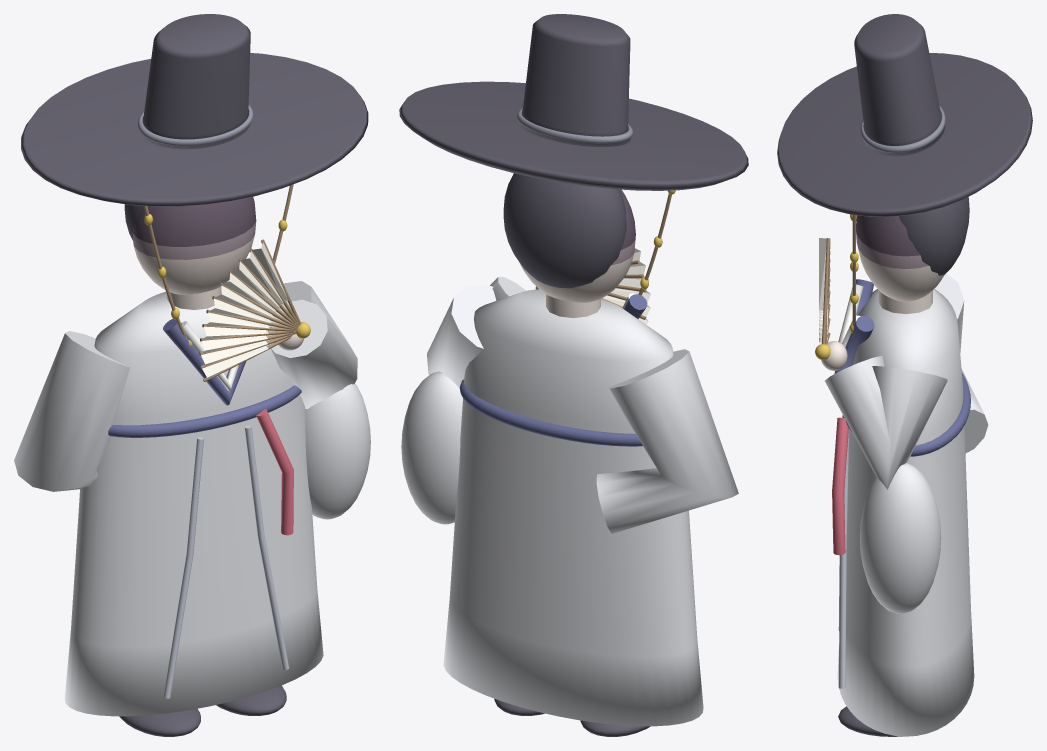
The model's file is conch_jeonwoochi_half_behind_0_0.glb.
The picture shows the model from 3 angles, left to right: view 1: azimuth 30°, elevation 25°; view 2: azimuth 150°, elevation 25°; view 3: azimuth 270°, elevation 25°; orthographic projection.
Size of the model in its own units: 28.25 by 55.23 by 18.85.
